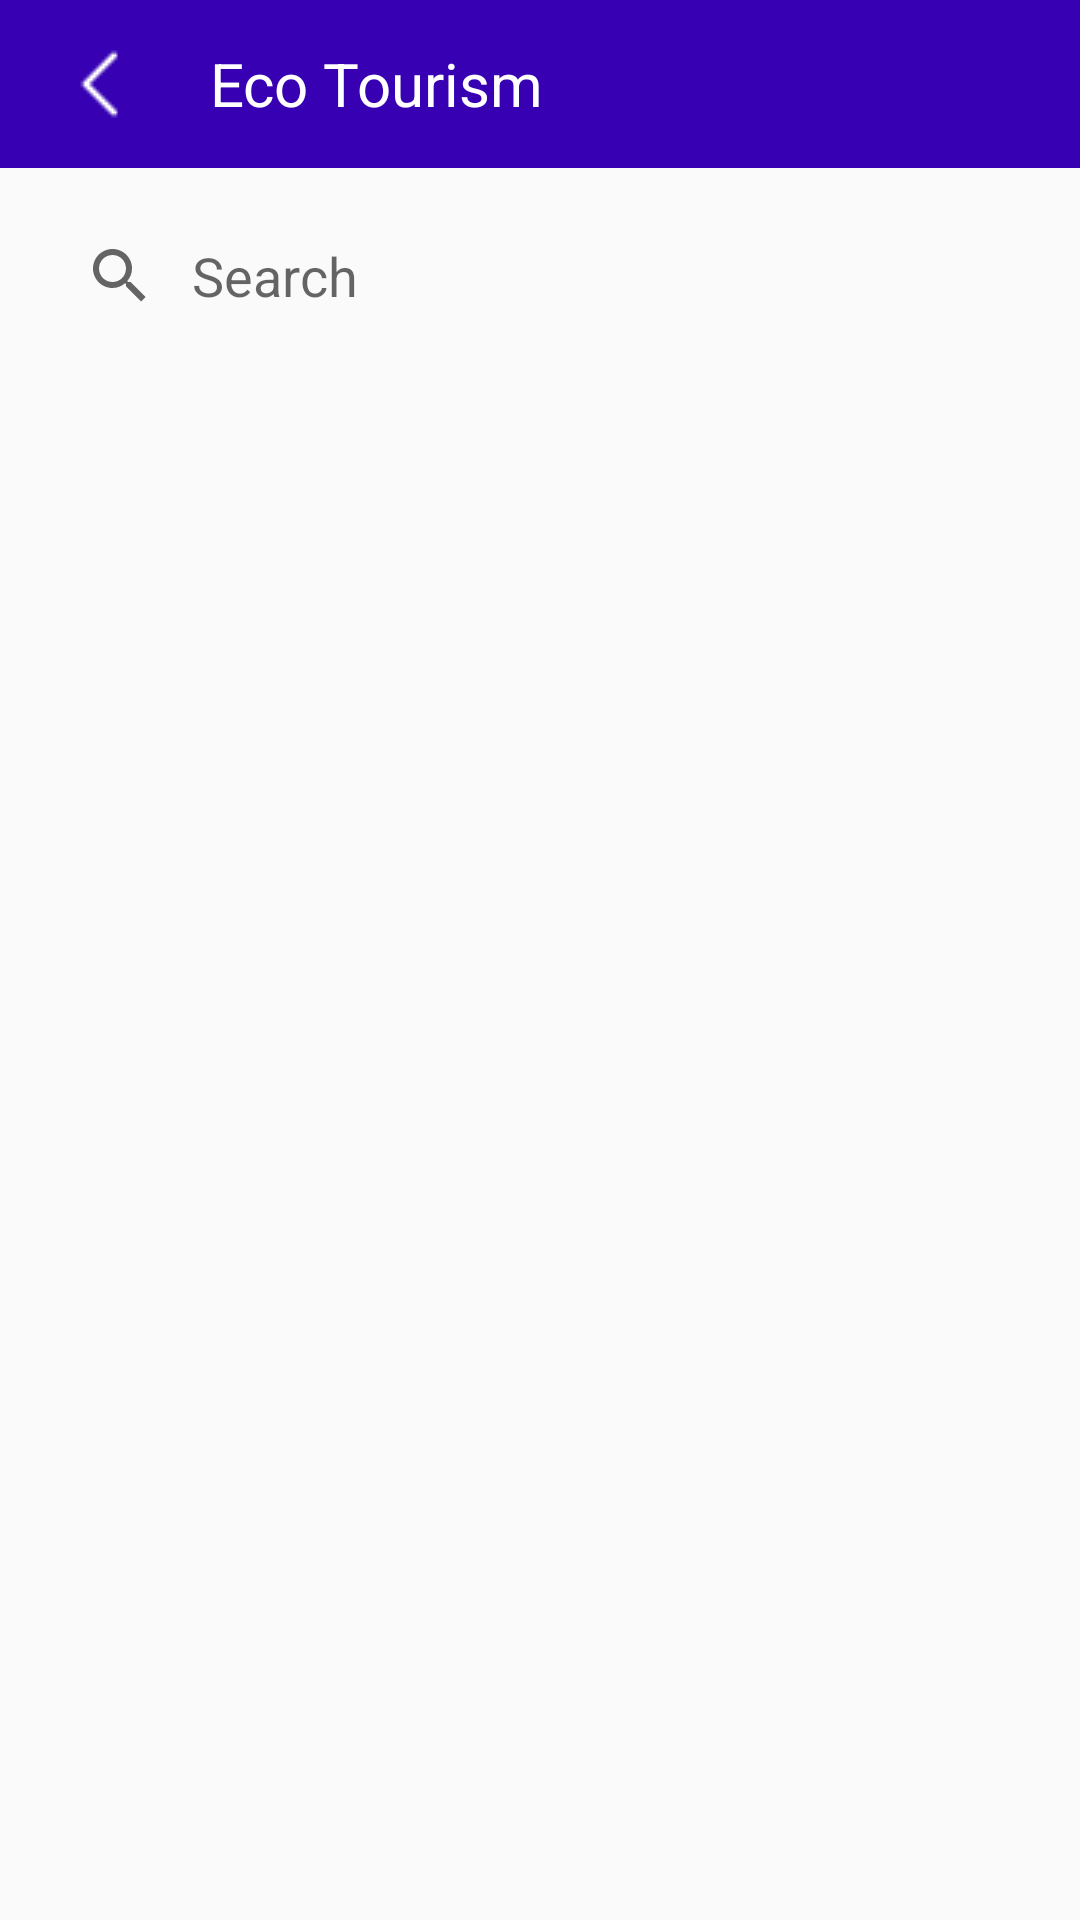

Icons on this 1080 × 1920 Android screen, each with the point to tap as point (x, y):
left arrow: point (99, 84)
